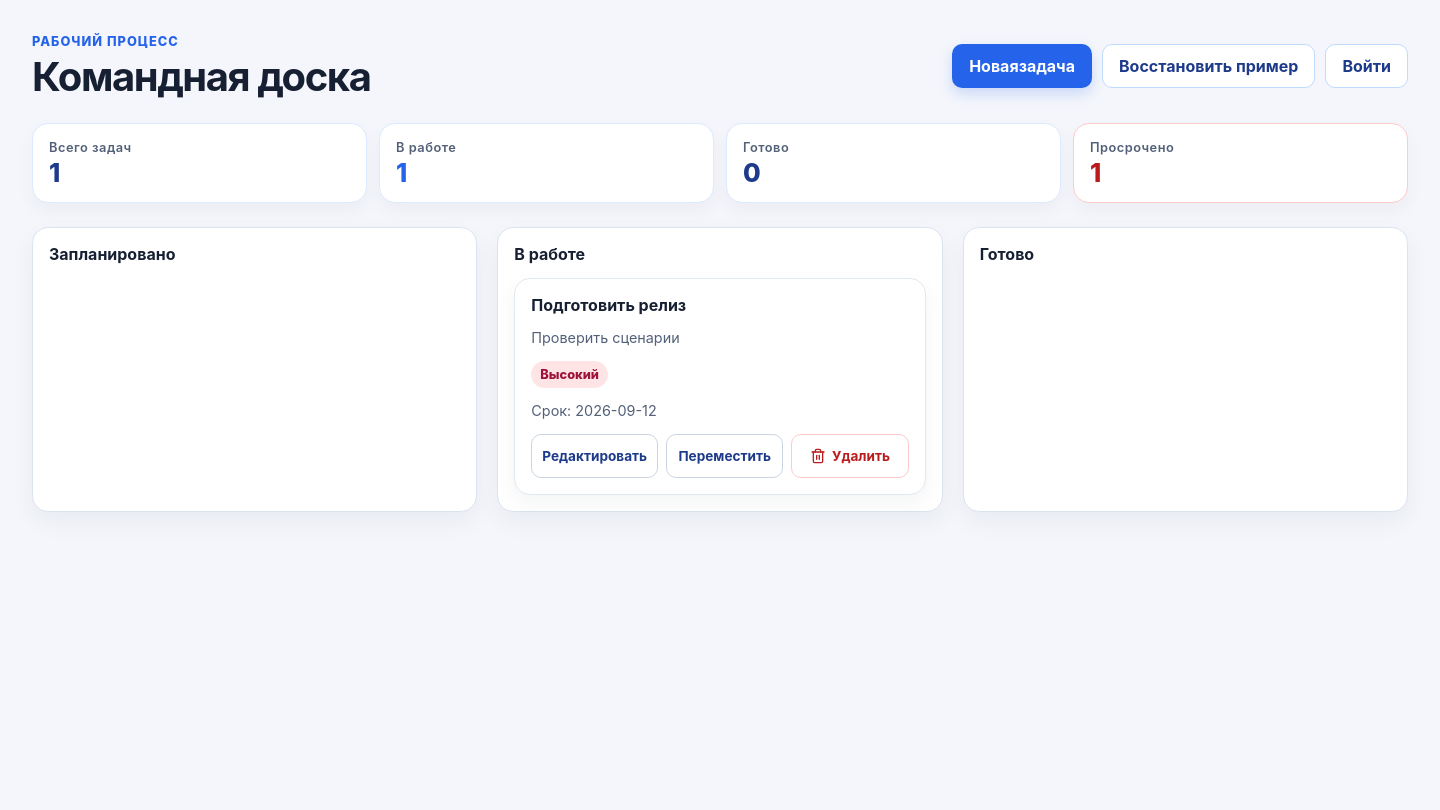
Test case: App › creates a task from the dialog
Expected: the heading "Подготовить релиз" is shown, [531, 294, 686, 314]
Expected: the element named "Просрочено: 1" is shown, [1073, 123, 1408, 202]
Click the button "Новая задача". click: (1022, 66)
box: [952, 44, 1092, 88]
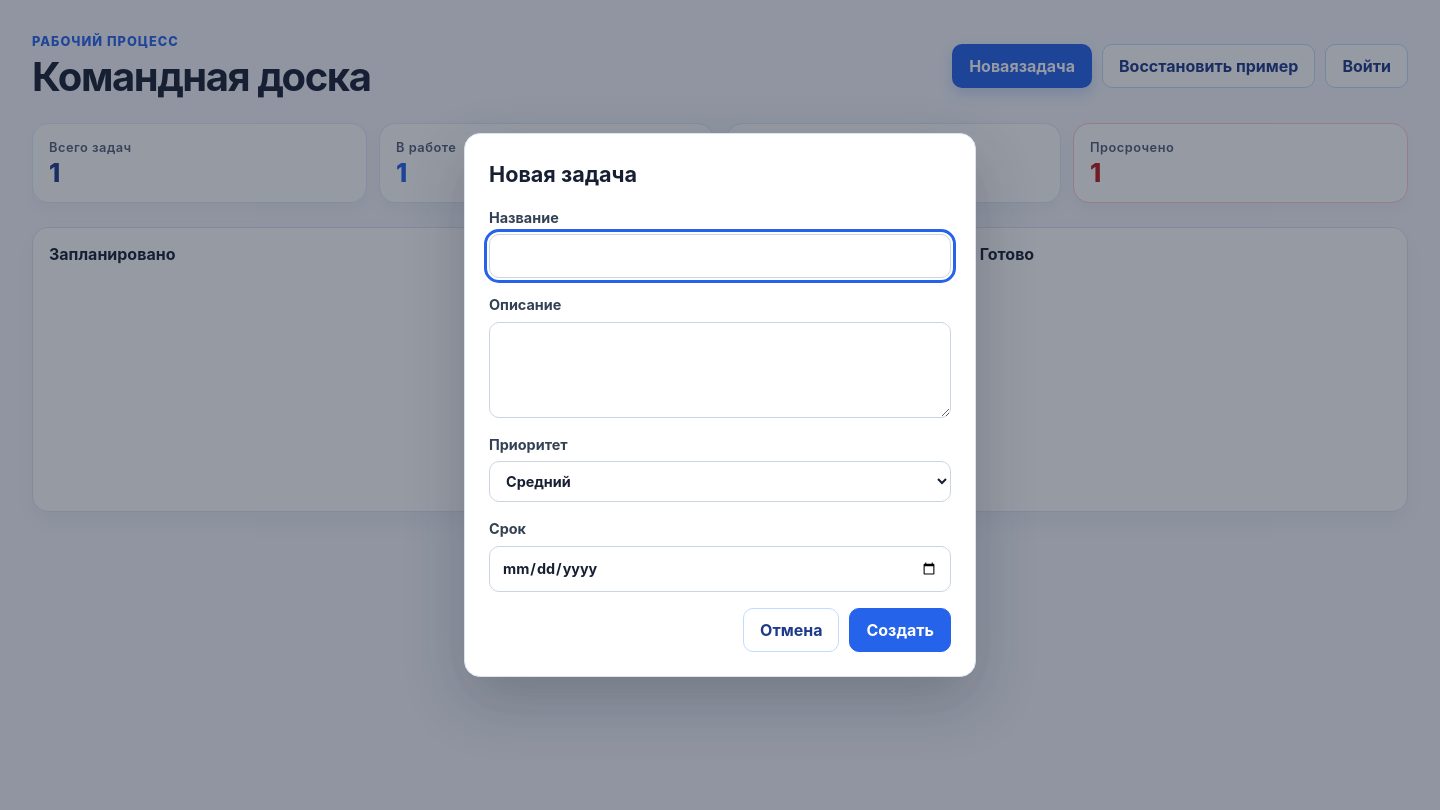
Type "Новая задача" into the field labelled "Название". click: (720, 256)
box: [489, 234, 951, 278]
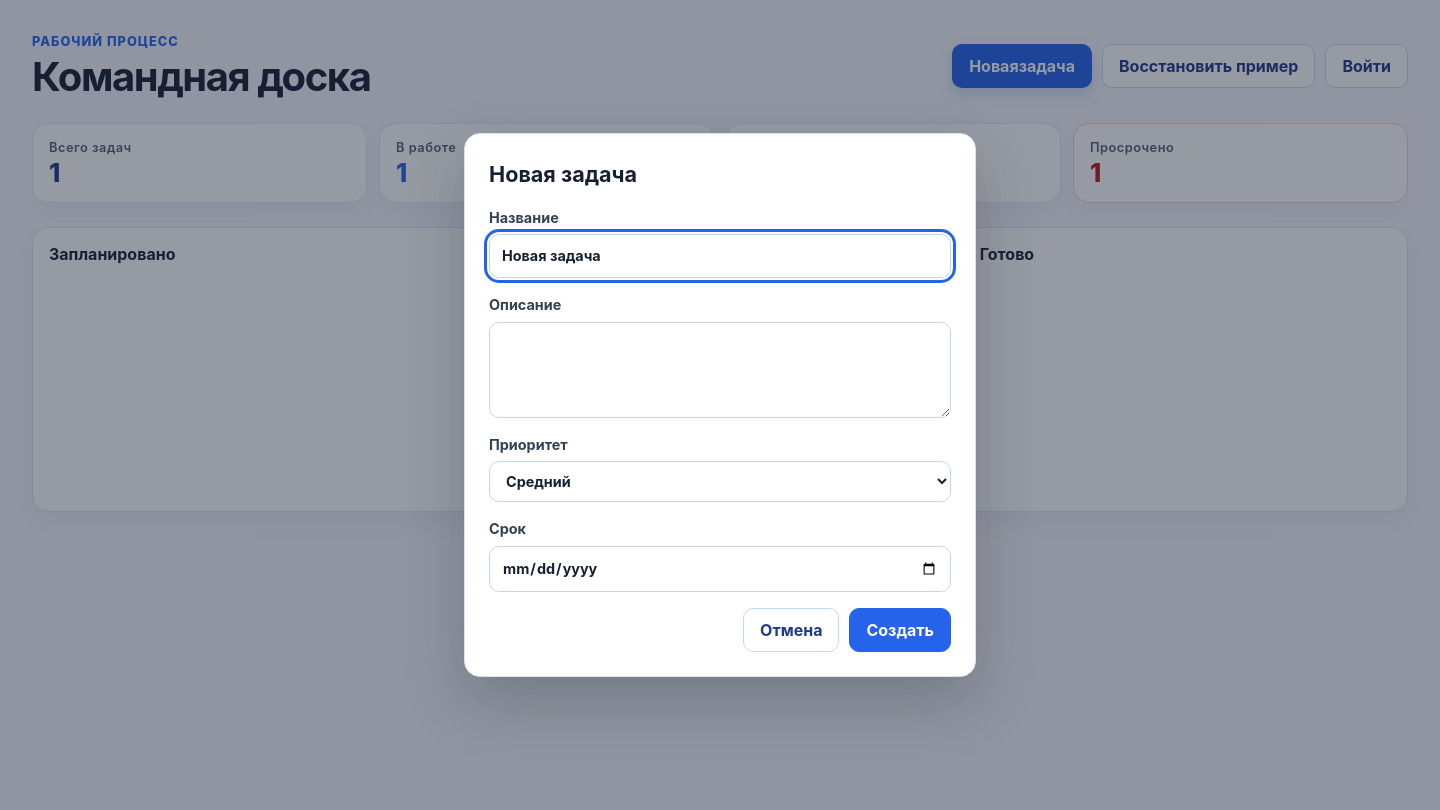
Select "Средний" in the dropdown labelled "Приоритет". click: (720, 482)
box: [489, 461, 951, 502]
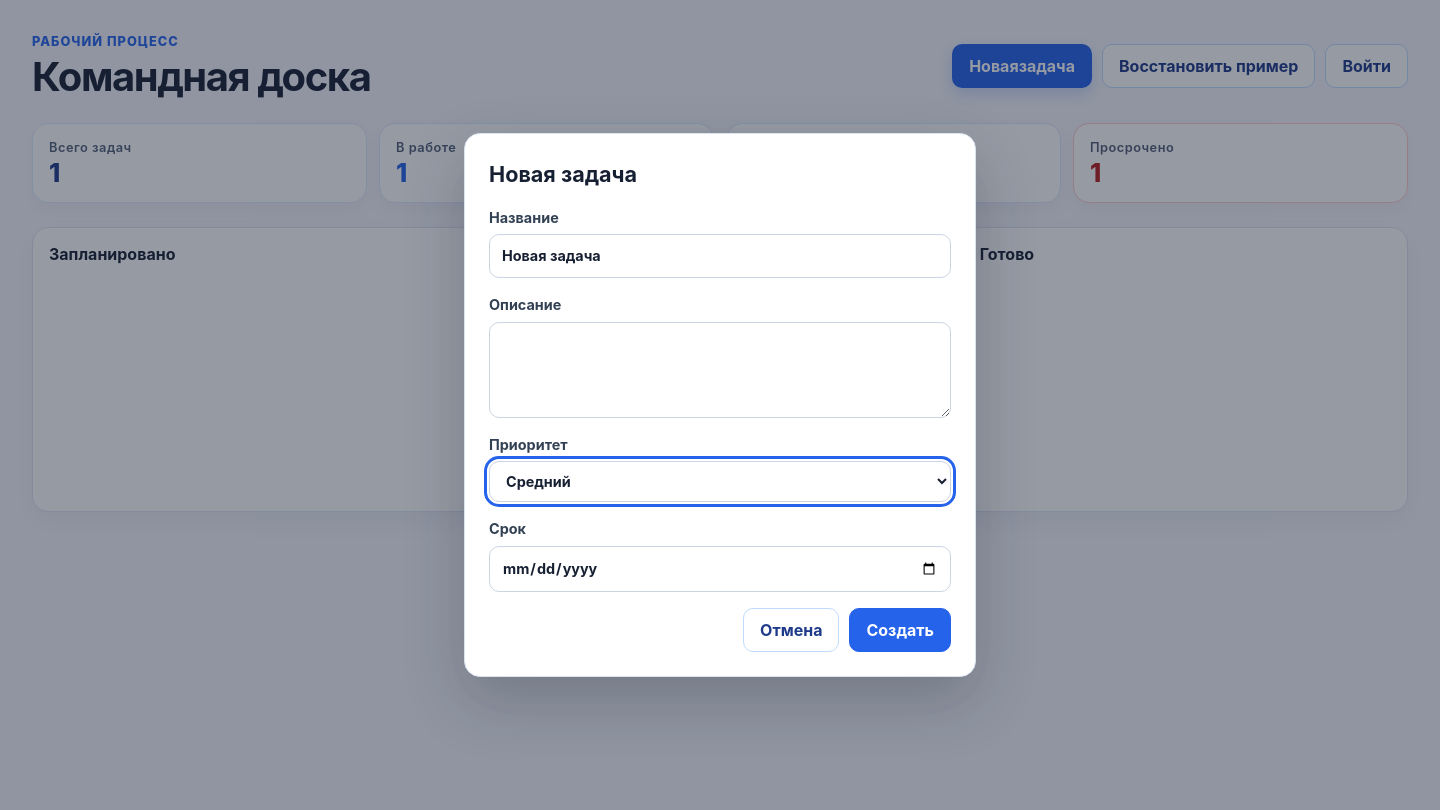
Click the button "Создать". click: (900, 630)
box: [850, 608, 951, 652]
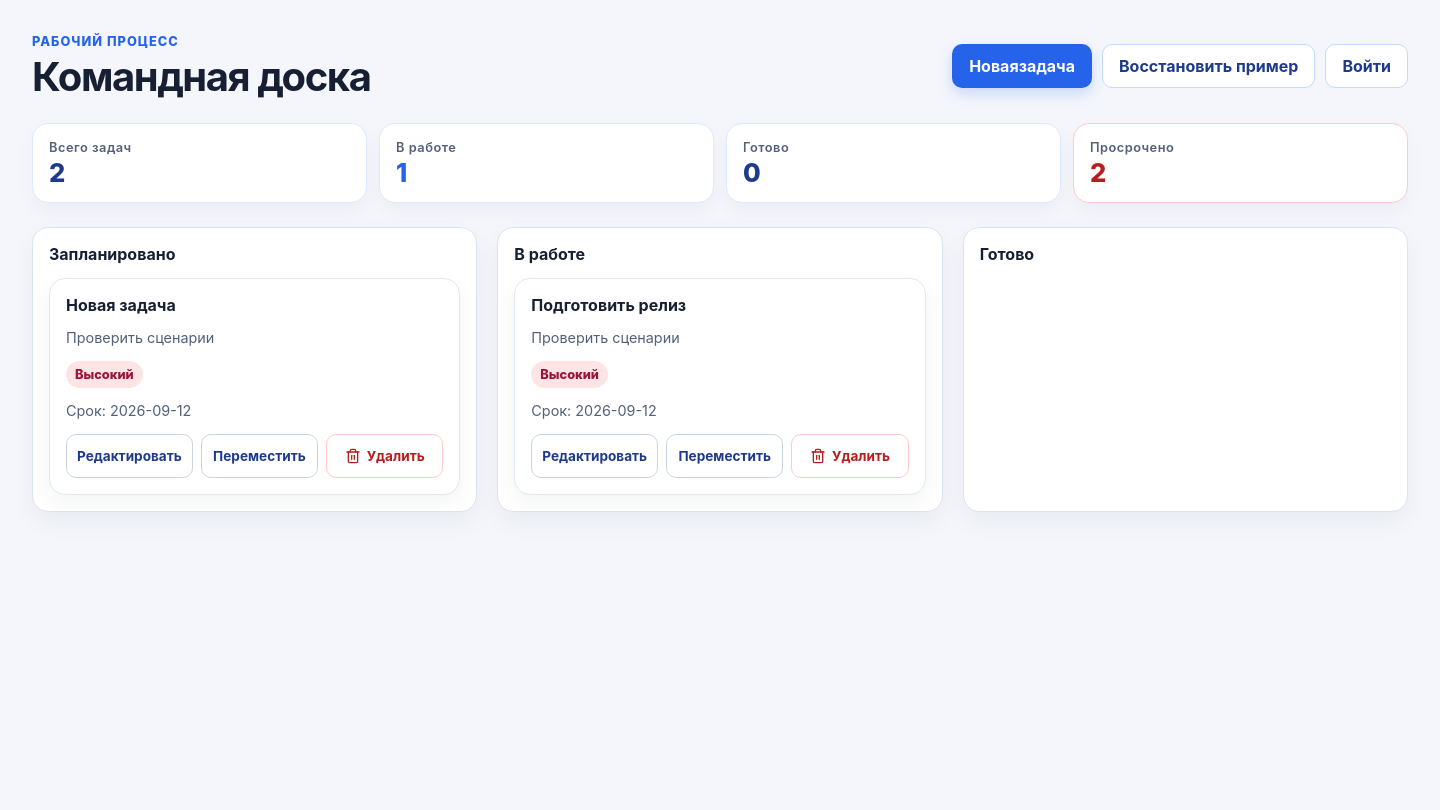
Expected: the heading "Новая задача" is shown, [66, 294, 176, 314]
Expected: the element named "Просрочено: 2" is shown, [1073, 123, 1408, 202]
